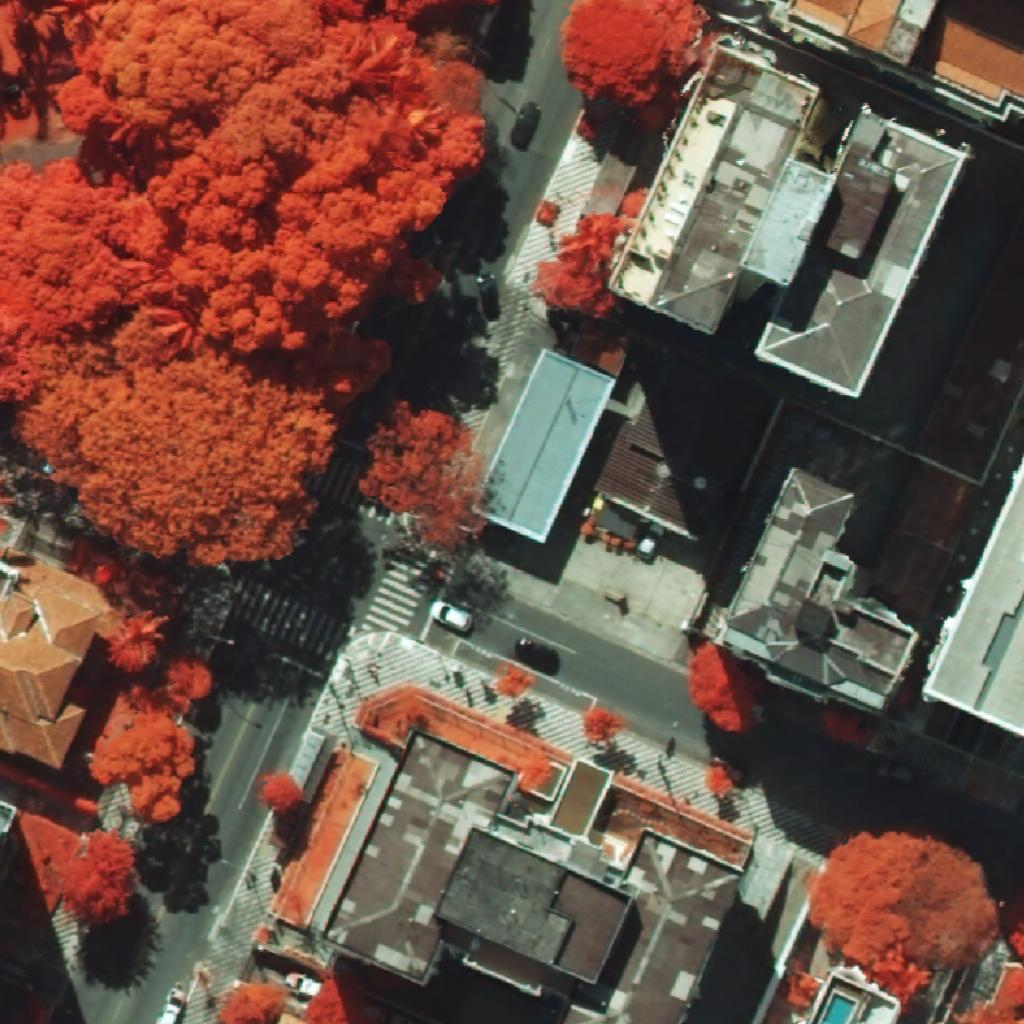pool: (821, 995, 855, 1024)
